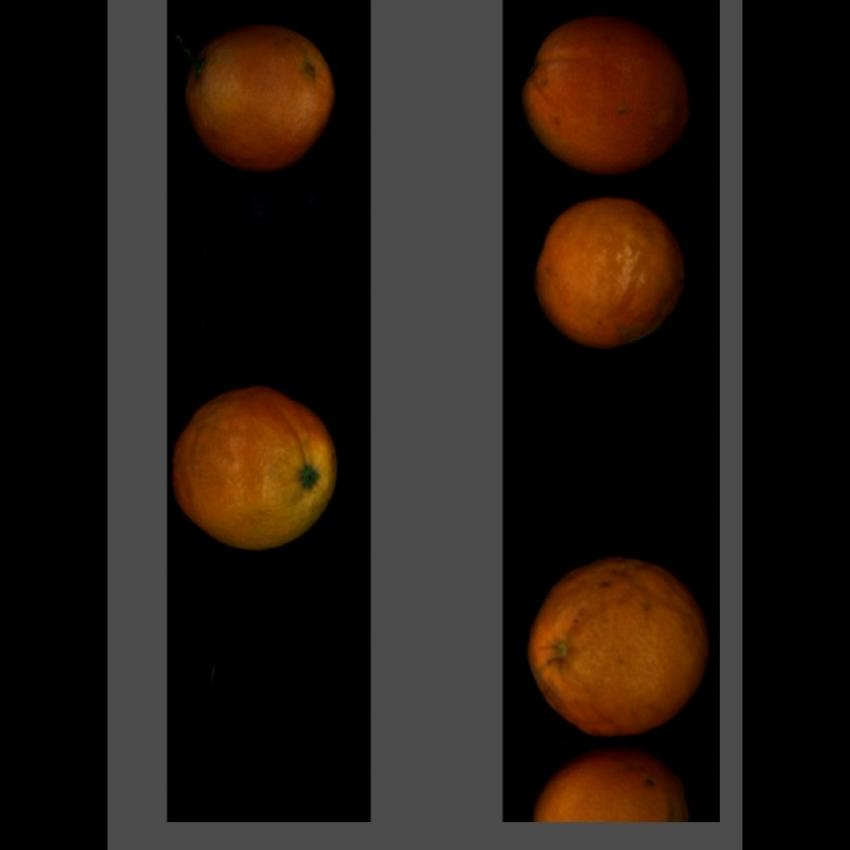Mal estado: (525, 554, 711, 740), (171, 381, 340, 558), (520, 22, 698, 166), (179, 23, 338, 177), (535, 203, 692, 348), (534, 751, 696, 826)
